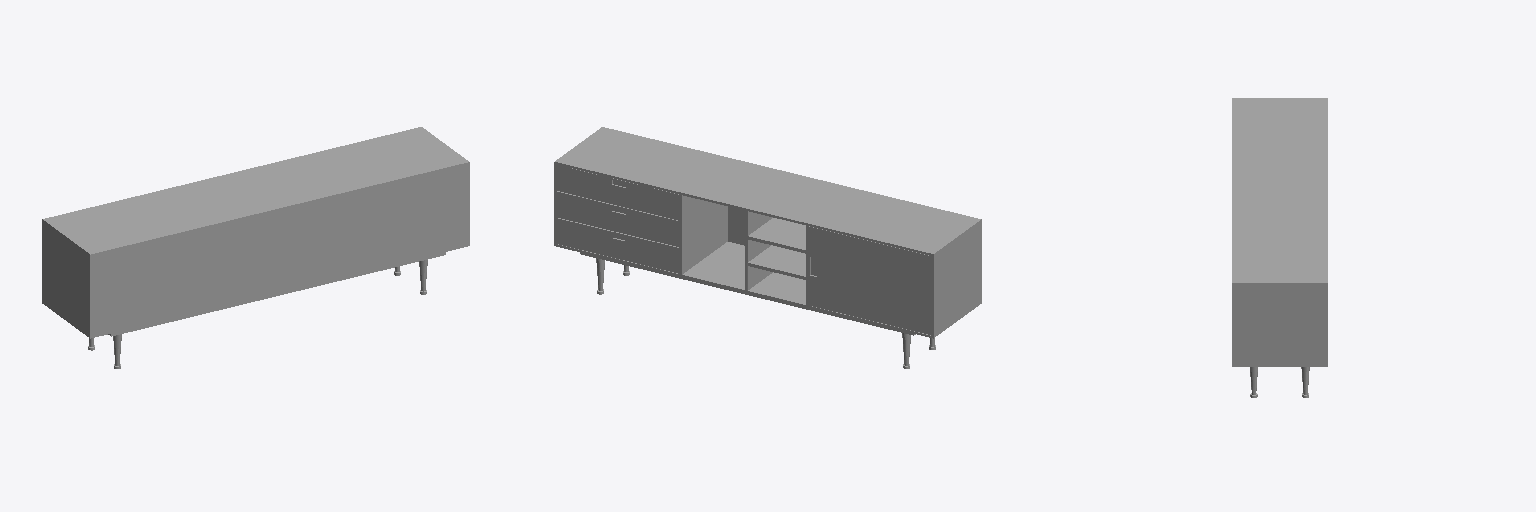
The model's file is table.obj.
3 renders of one model, left to right at view 1: azimuth 30°, elevation 25°; view 2: azimuth 150°, elevation 25°; view 3: azimuth 270°, elevation 25°, orthographic.
Parts seen in each view (by area): view 1: Box001, Rectangle002, Circle002; view 2: Box001, Rectangle001, Box005, Box006, Box004, Rectangle002, Circle002; view 3: Box001.
Boxes of the visible parts, box(x1,y1,x2,y2) form: Box001: box(42, 127, 469, 338); Rectangle002: box(108, 252, 445, 336); Circle002: box(88, 260, 427, 368); Box001: box(554, 127, 981, 338); Rectangle001: box(809, 226, 930, 334); Box005: box(557, 191, 678, 246); Box006: box(557, 218, 678, 273); Box004: box(557, 165, 678, 220); Rectangle002: box(580, 252, 915, 335); Circle002: box(596, 258, 935, 368); Box001: box(1232, 98, 1327, 366).
Size of the model in its own units: 46.35 by 15.31 by 10.18.